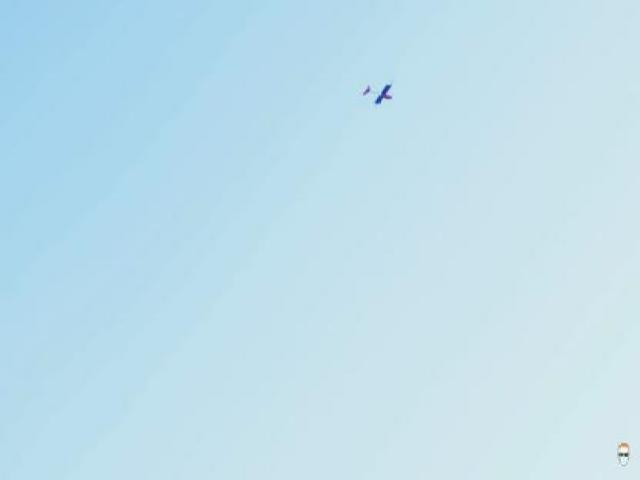uav: (358, 74, 396, 106)
